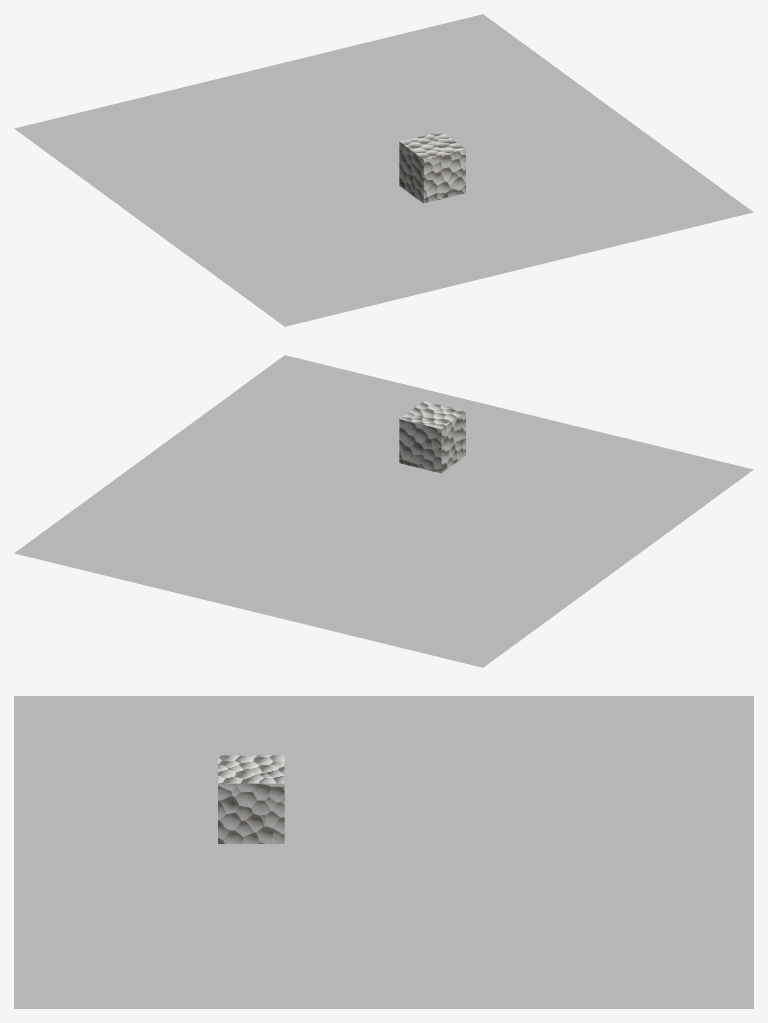
The model's file is snow2.gltf.
3 views of the same model, one above another, from view 1: azimuth 30°, elevation 25°; view 2: azimuth 150°, elevation 25°; view 3: azimuth 270°, elevation 25° (orthographic). The views are drawn at different scales.
Parts seen in each view (by area): view 1: Plane, Cube; view 2: Plane, Cube; view 3: Plane, Cube.
Part boxes in pixels (x1,y1,x2,y2): Plane: (14, 14, 753, 326); Cube: (399, 131, 465, 203); Plane: (14, 355, 753, 667); Cube: (399, 401, 465, 473); Plane: (14, 696, 753, 1008); Cube: (218, 755, 284, 843).
Bounding box in the file's own units: 22.21 × 2.75 × 22.21.
